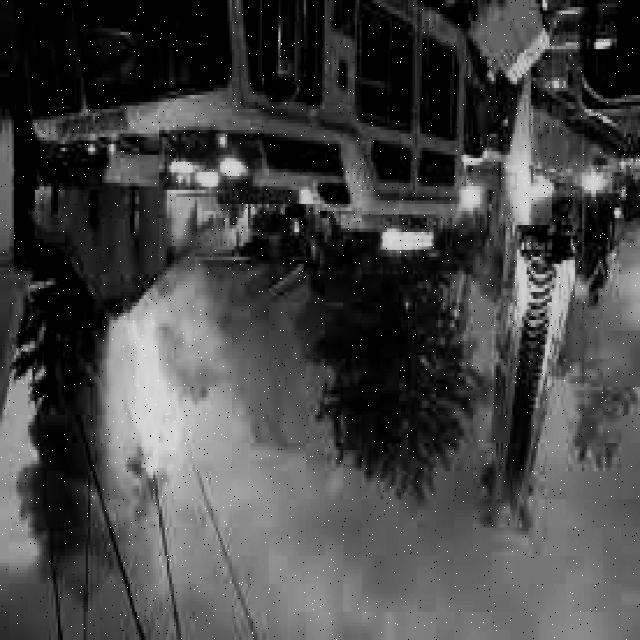api: (92, 300, 201, 490)
